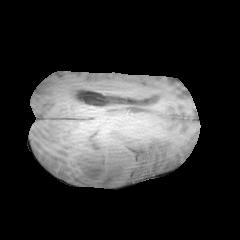glioma: (58, 130, 133, 183)
